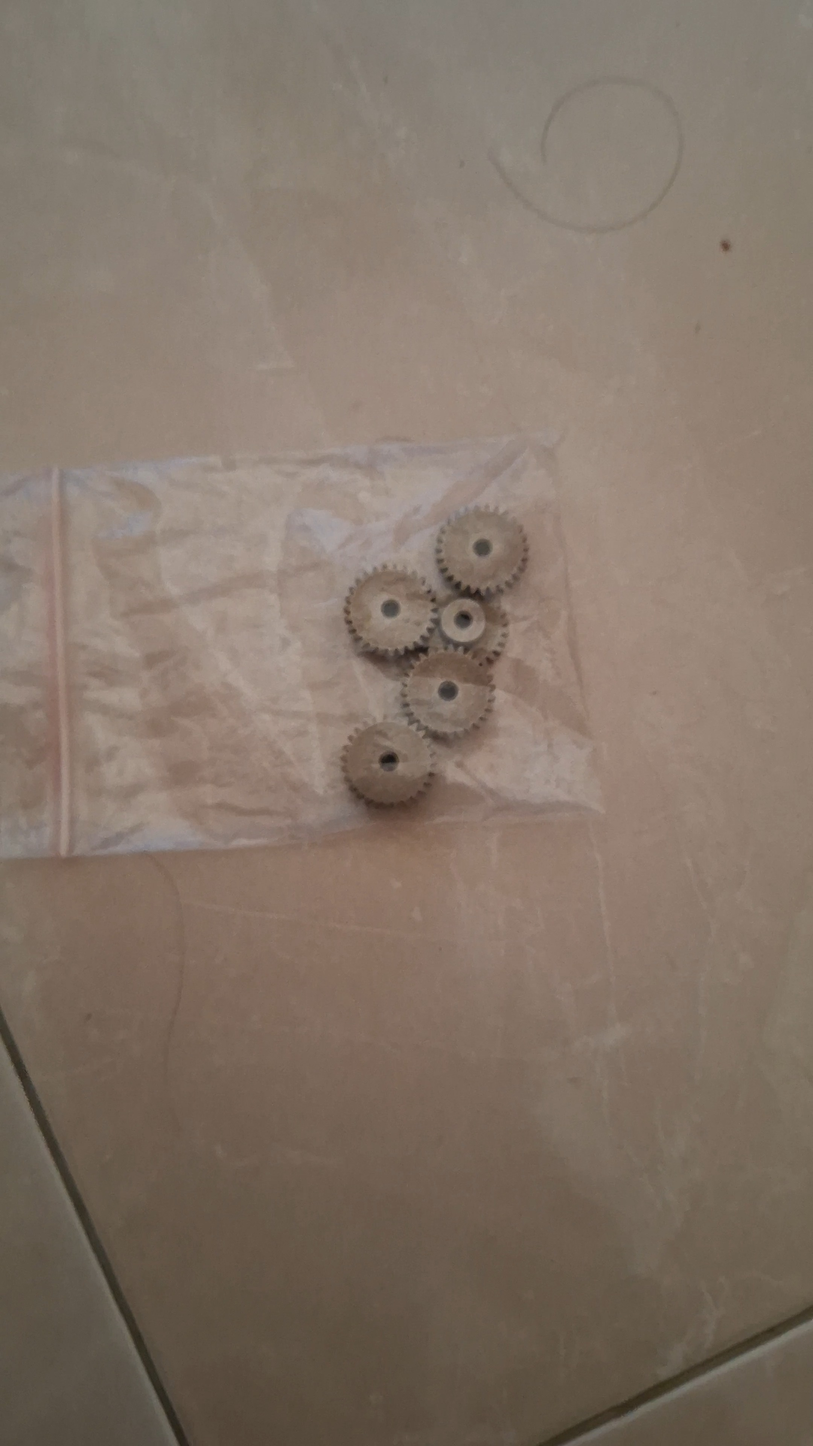spur gear: (344, 565, 436, 657), (436, 508, 528, 598), (402, 648, 493, 737), (342, 720, 434, 805), (430, 595, 508, 662)
